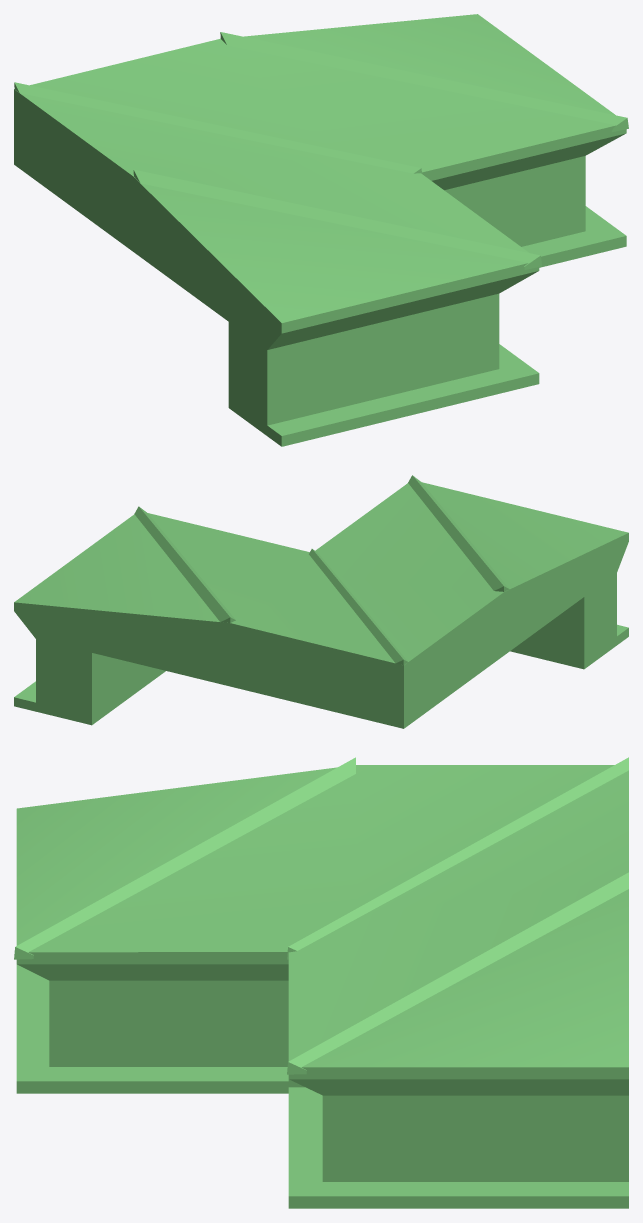
The model's file is Bld3_Top_Cor_Inv2.fbx.
The picture shows the model from 3 angles, top to bottom: view 1: azimuth 30°, elevation 25°; view 2: azimuth 150°, elevation 25°; view 3: azimuth 270°, elevation 25°; orthographic projection. The views are drawn at different scales.
Parts seen in each view (by area): view 1: Bld3_Top_Cor_Inv2; view 2: Bld3_Top_Cor_Inv2; view 3: Bld3_Top_Cor_Inv2.
Part boxes in pixels (x1,y1,x2,y2): Bld3_Top_Cor_Inv2: (14,14,628,446); Bld3_Top_Cor_Inv2: (14,475,628,728); Bld3_Top_Cor_Inv2: (14,757,628,1208).
Size of the model in its own units: 677 by 235 by 678.
